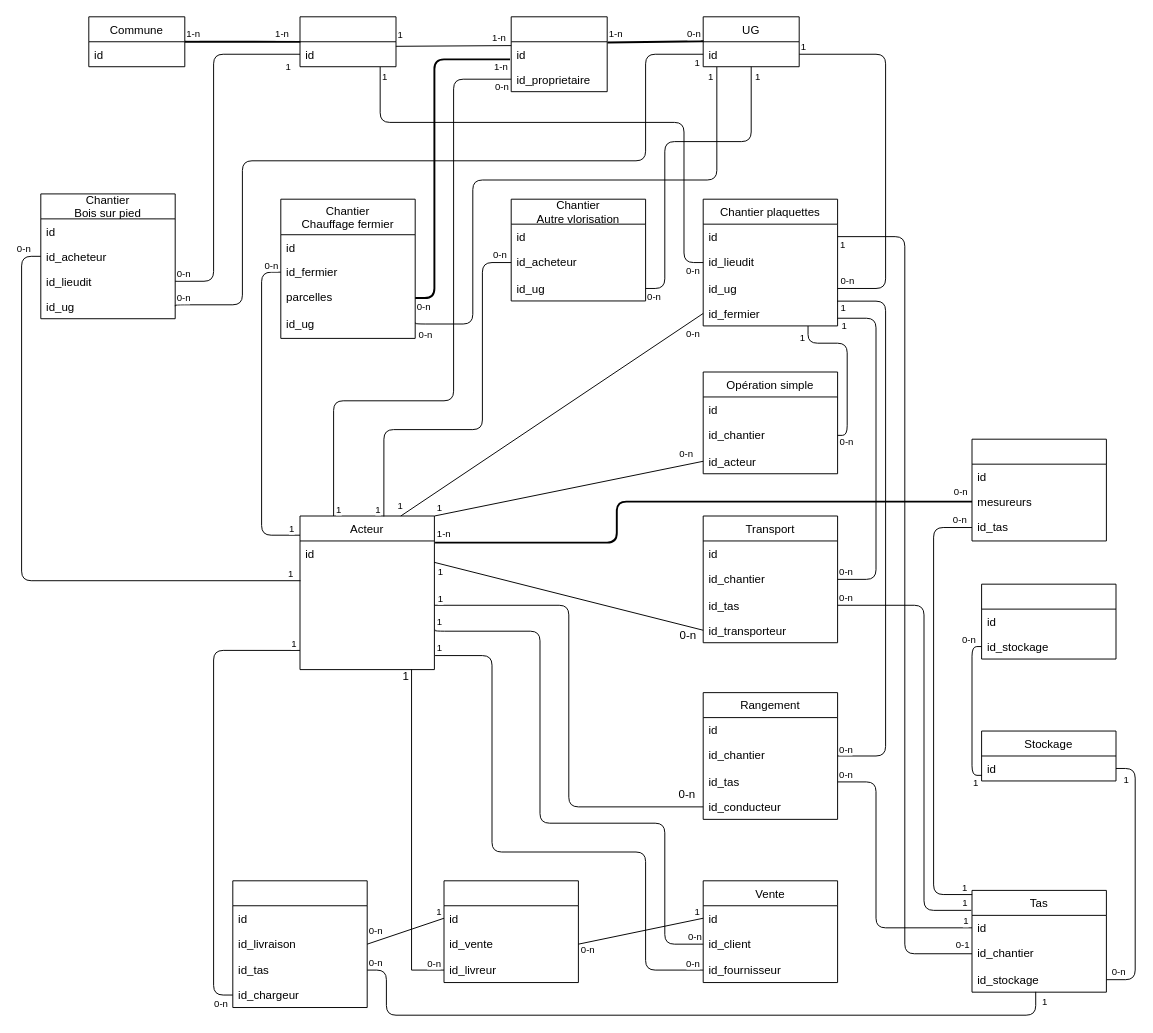
Some shapes in this 1153 by 1033 pixel diagram are drawn without their labels. The shapes that lost their labels are listed below. From the top down, each one's box as (x1, y1, x2, y2) in pixels, then its label:
(299, 16, 396, 67): Lieudit
(510, 16, 607, 92): Parcelle
(971, 438, 1106, 541): Mesure d'humidité
(981, 583, 1116, 659): Loyer
(232, 880, 367, 1008): Chargement
(443, 880, 578, 983): Livraison
